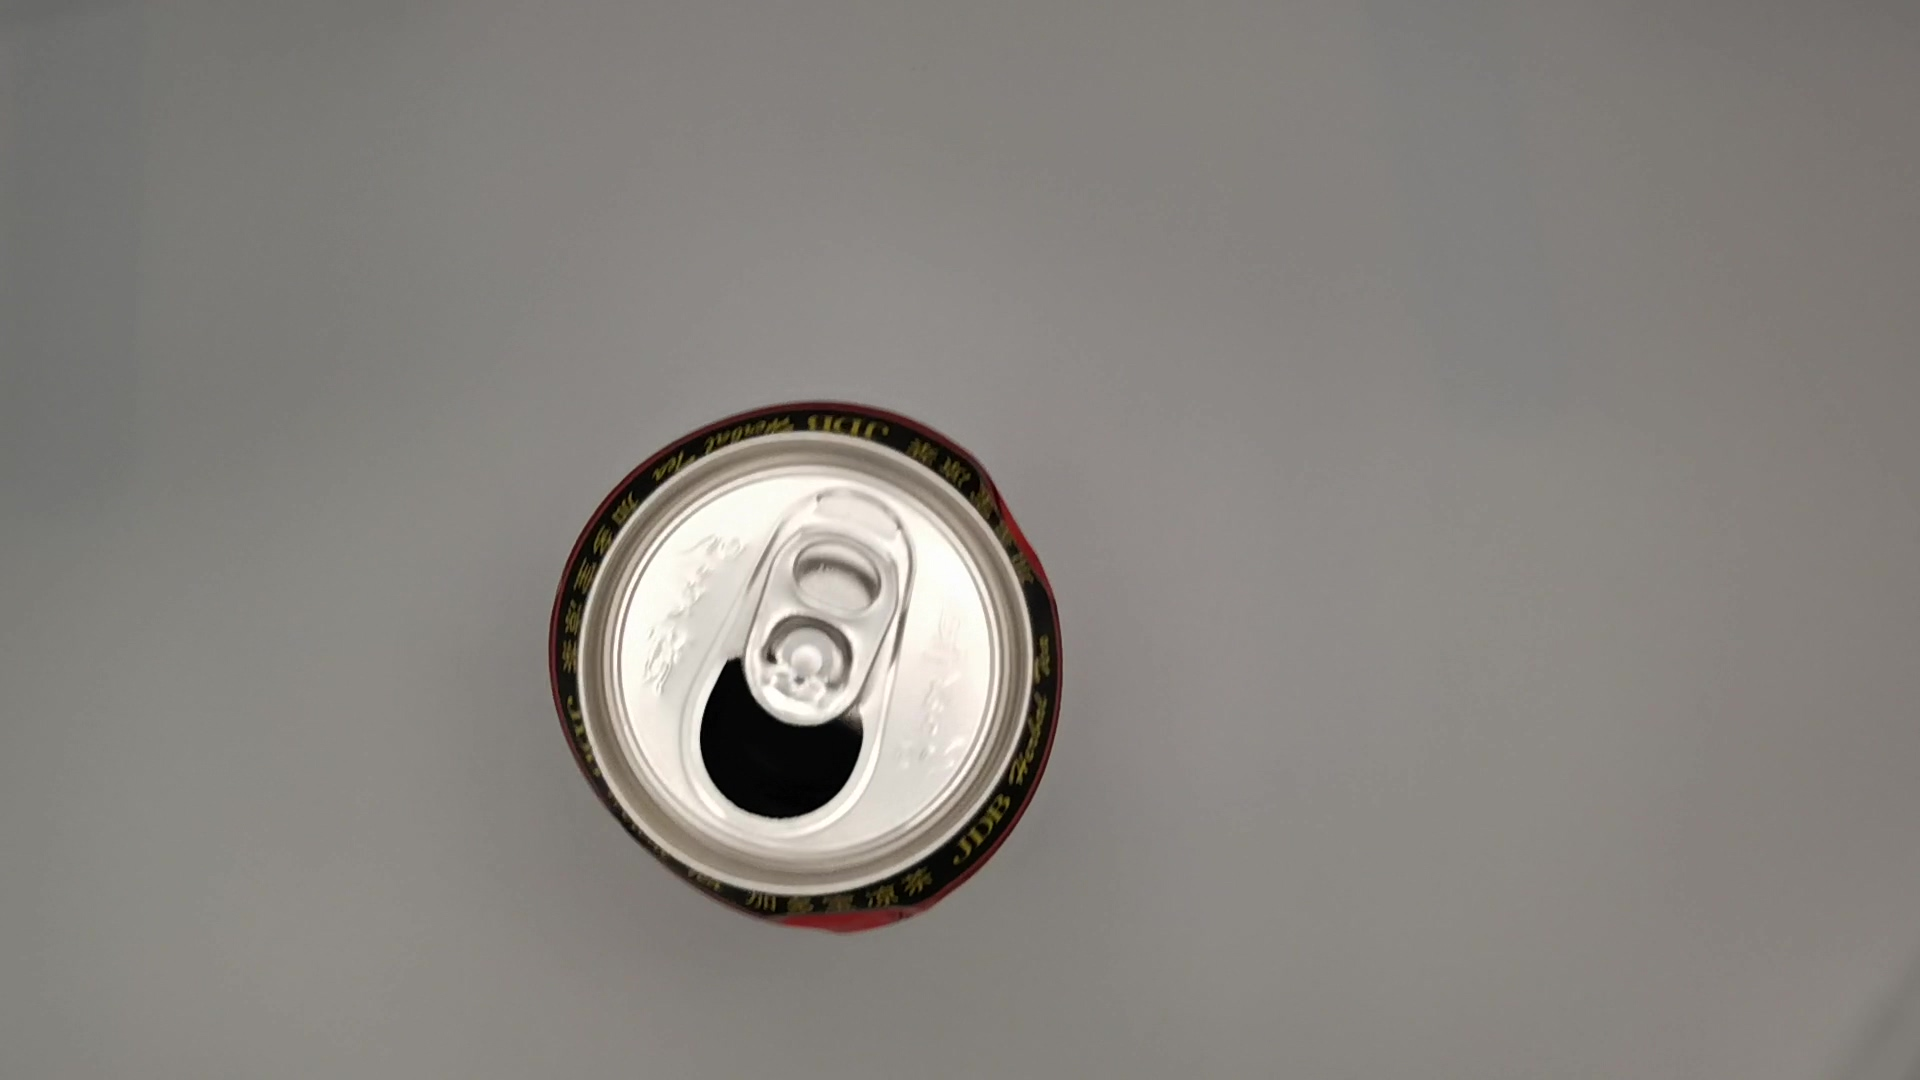can: (526, 382, 1088, 969)
